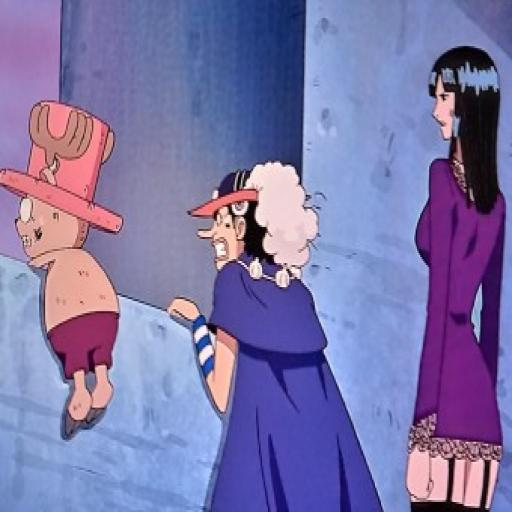NicoRobin: (417, 42, 506, 217)
Usopp: (181, 159, 330, 303)
